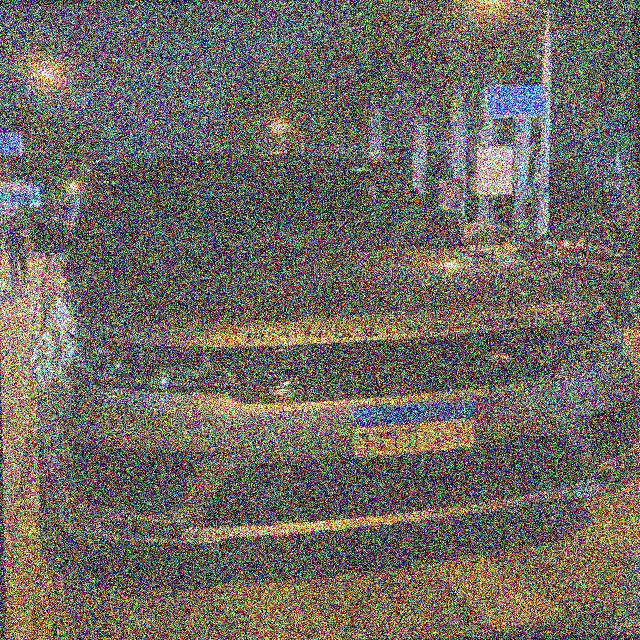License Plate: (348, 400, 477, 464)
